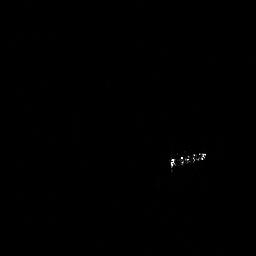ship: (165, 148, 210, 176)
